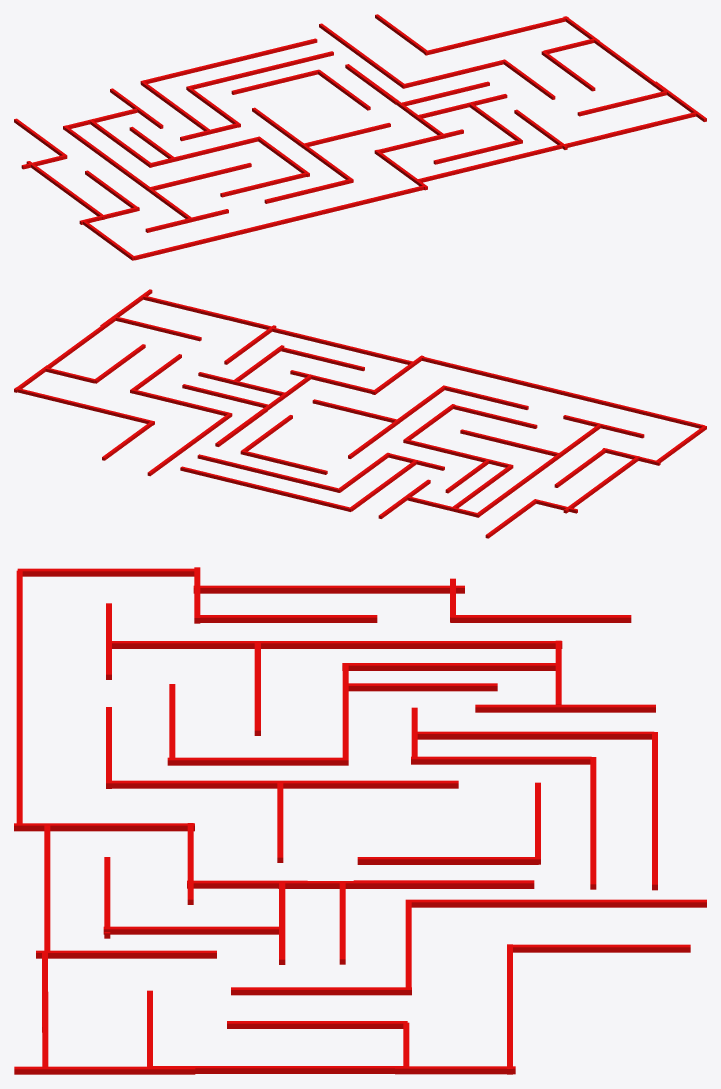
3 renders of one model, top to bottom at view 1: azimuth 30°, elevation 25°; view 2: azimuth 150°, elevation 25°; view 3: azimuth 270°, elevation 25°, orthographic. The views are drawn at different scales.
Size of the model in its own units: 197 by 1.5 by 115.
